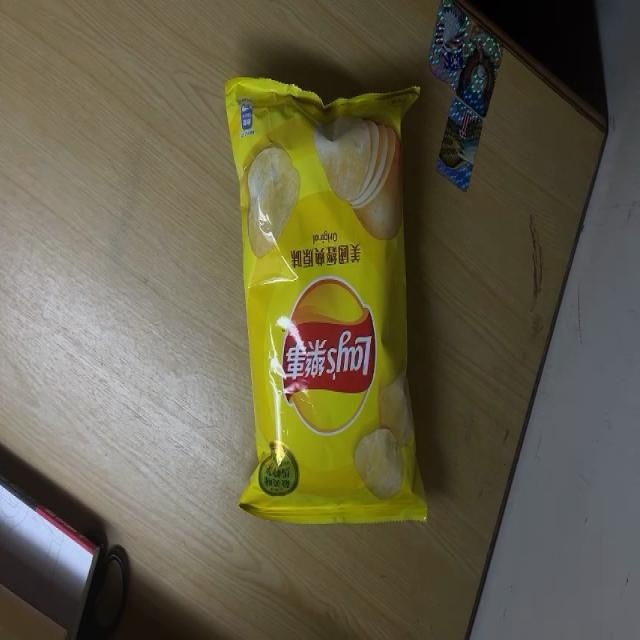Lay-s-original: (222, 76, 430, 527)
